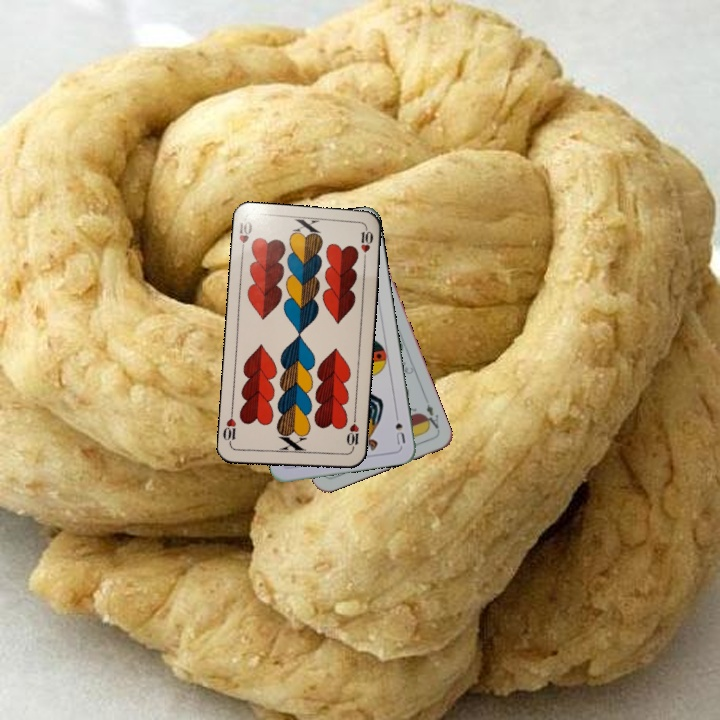EA: (419, 400, 441, 431)
H10: (235, 218, 255, 257), (342, 413, 361, 454)
SU: (391, 408, 408, 447)
